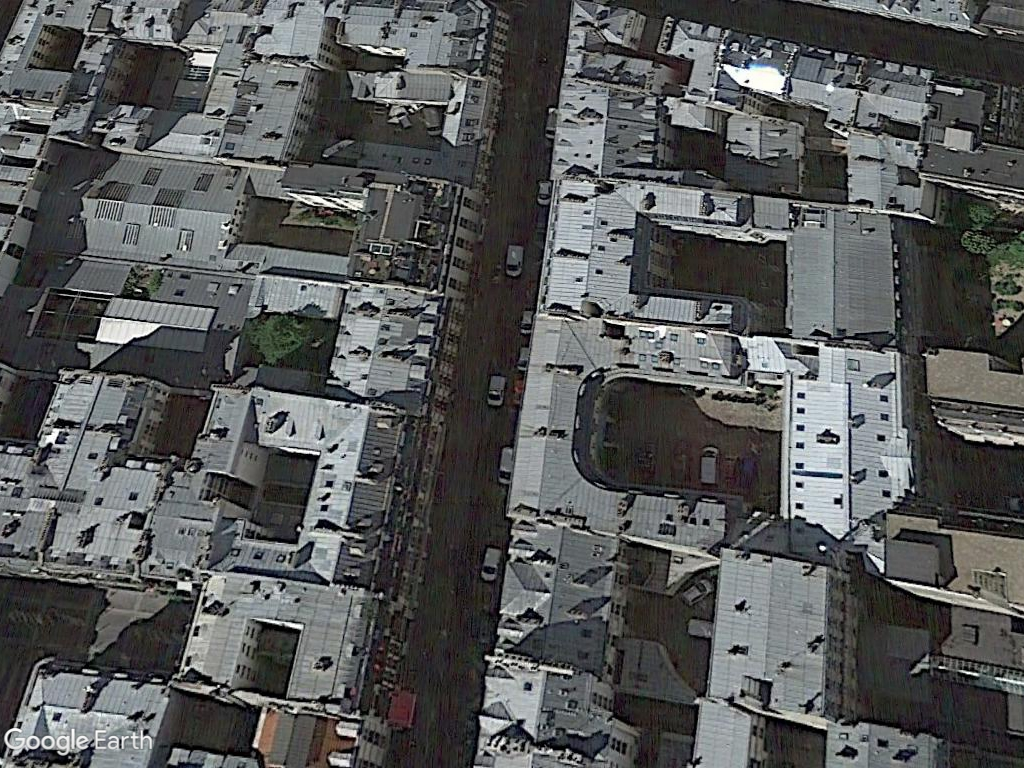van: (497, 443, 515, 487), (481, 543, 501, 581), (505, 242, 524, 279), (486, 371, 505, 408)
